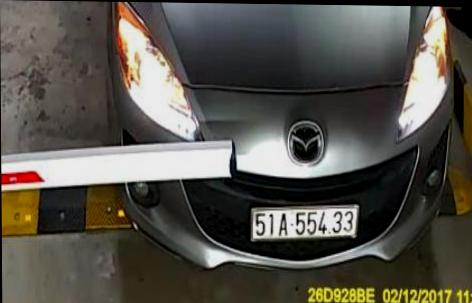License_Plate: (242, 201, 363, 245)
